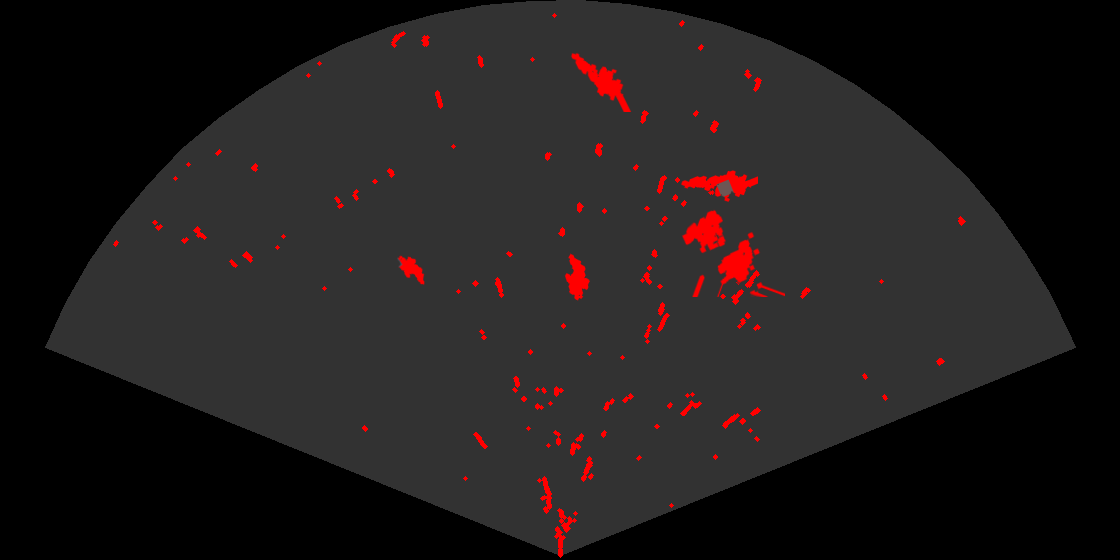AUV: (563, 252, 591, 302), (396, 254, 426, 287)
cage: (680, 208, 785, 297)
frogman: (569, 51, 633, 112), (680, 169, 758, 203)
